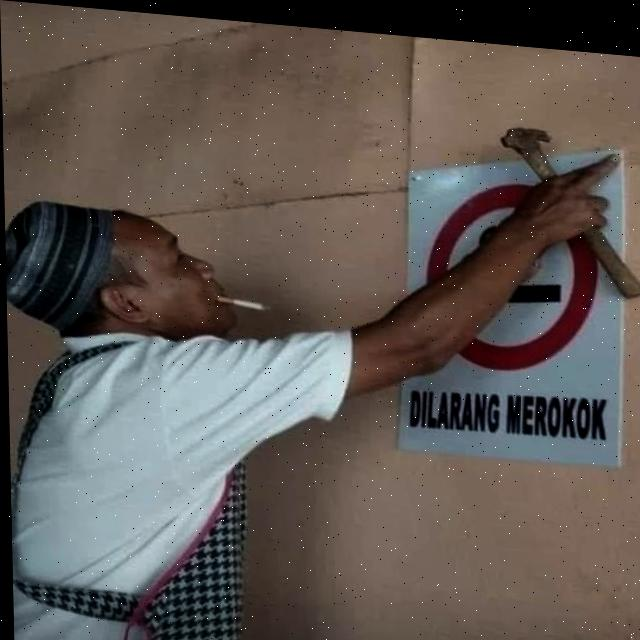cigarette: (213, 291, 269, 306)
